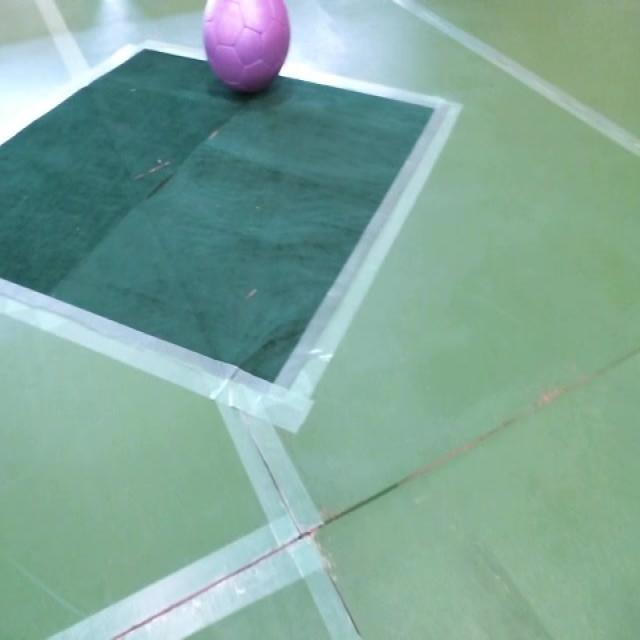purple_ball: (203, 0, 292, 91)
